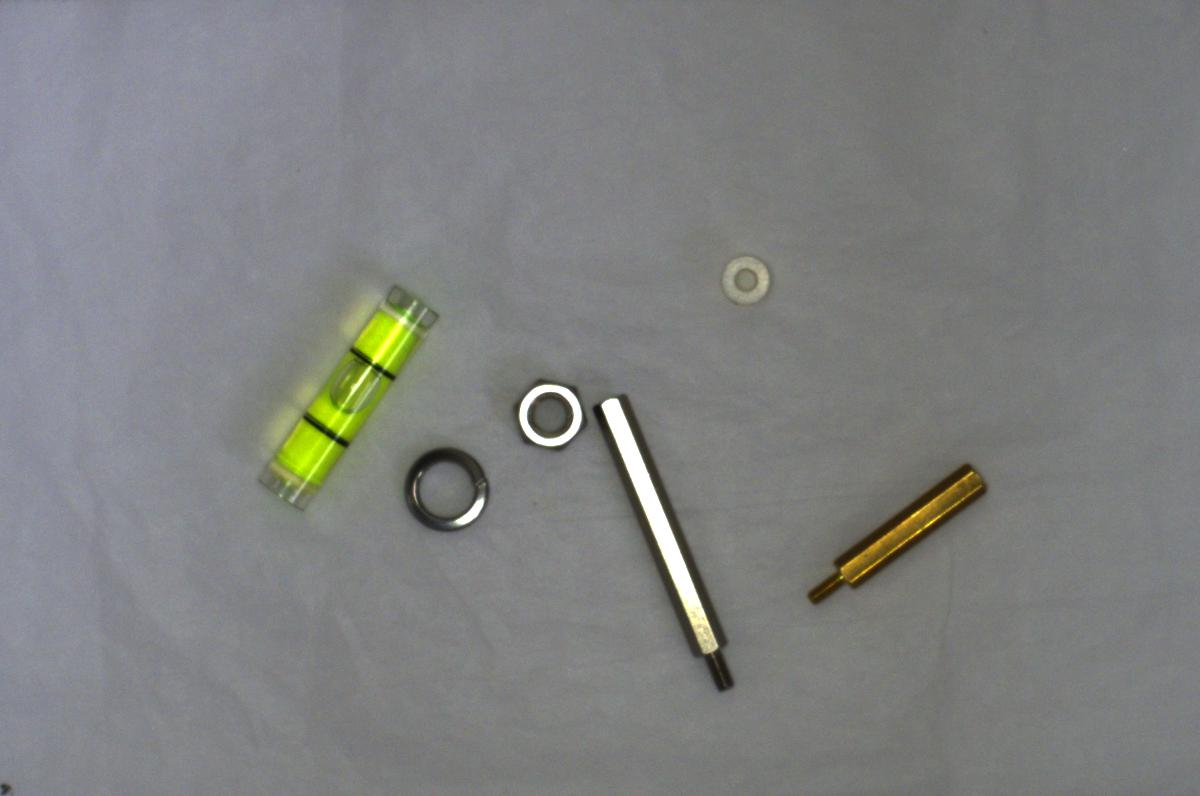Hexagon nut: (498, 365, 595, 458)
Hexagon pillar: (793, 458, 991, 614)
Hexagonal steel column: (598, 386, 737, 696)
Horizontal bubble: (259, 275, 435, 506)
Plastic cushion pillar: (707, 252, 780, 307)
Spring washer: (390, 440, 514, 555)
